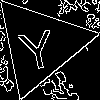Y: (15, 19, 58, 72)
